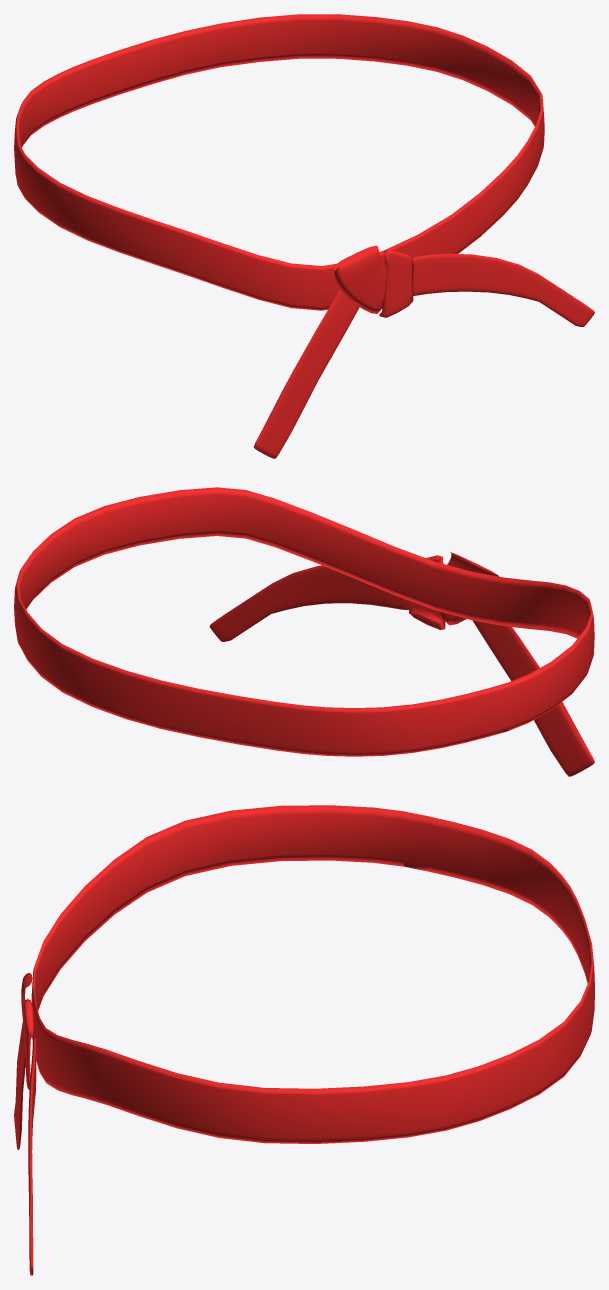
Rendered from TaliSilatRed 1.fbx.
The picture shows the model from 3 angles, top to bottom: view 1: azimuth 30°, elevation 25°; view 2: azimuth 150°, elevation 25°; view 3: azimuth 270°, elevation 25°; orthographic projection. The views are drawn at different scales.
Parts seen in each view (by area): view 1: Tali; view 2: Tali; view 3: Tali.
Boxes of the visible parts, <box> form: Tali: <box>14,14,594,458</box>; Tali: <box>14,487,594,776</box>; Tali: <box>14,805,594,1275</box>.
Bounding box in the file's own units: 154 × 69.89 × 132.
